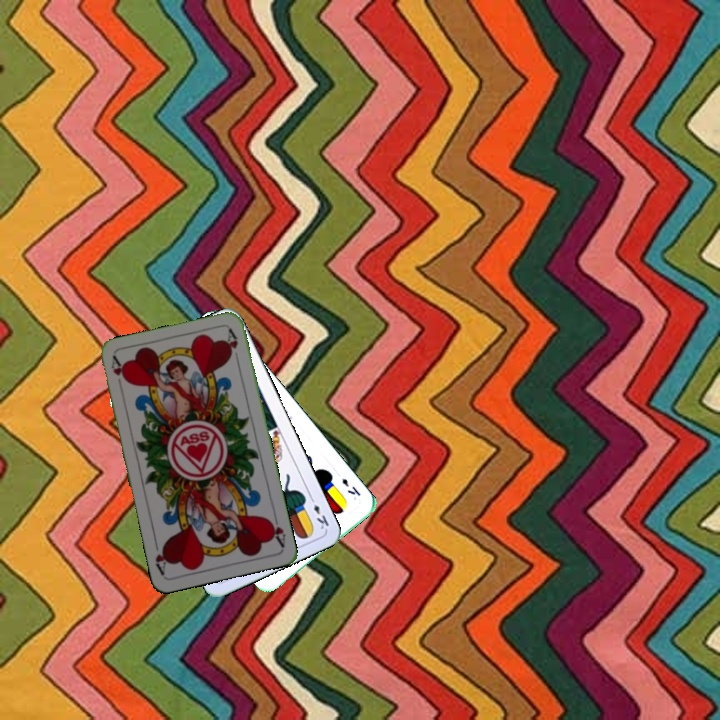EK: (306, 492, 332, 532), (337, 474, 363, 498)
HA: (264, 509, 288, 549), (107, 353, 129, 393)
